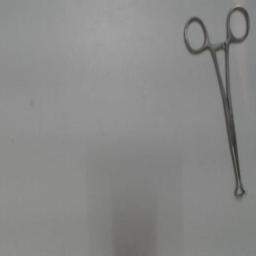Babcock Tissue Forceps: (181, 2, 253, 204)
